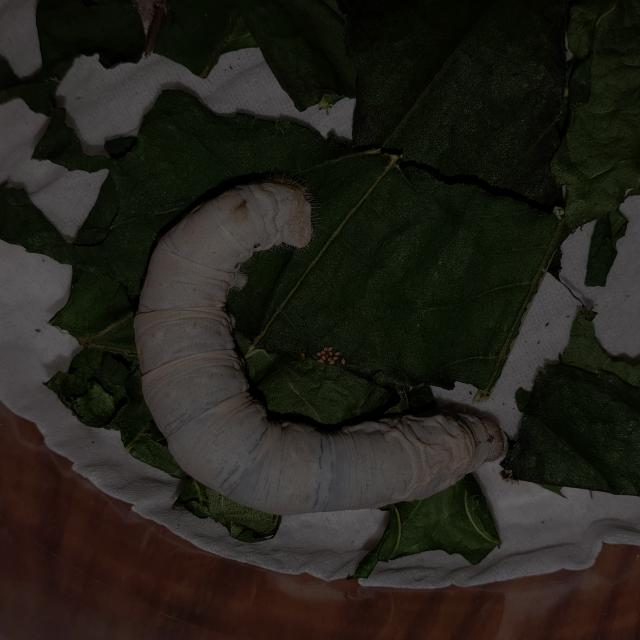Healthy: (96, 153, 514, 537)
